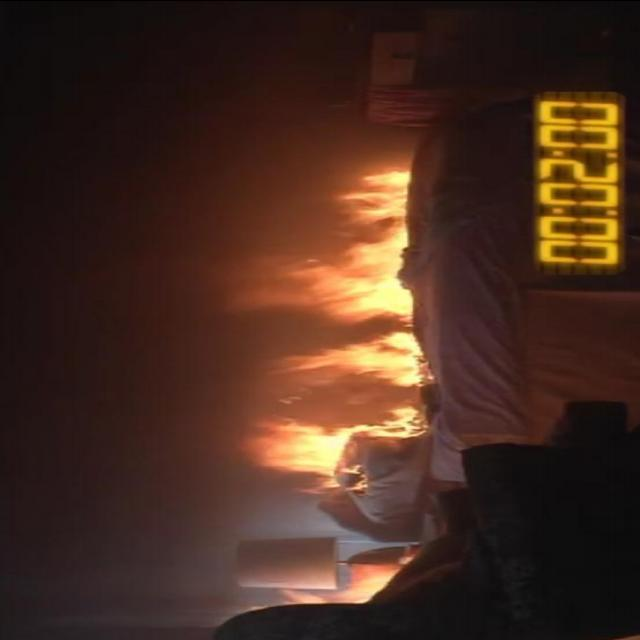Fire: (288, 169, 412, 325), (248, 403, 428, 493), (276, 332, 422, 386)
